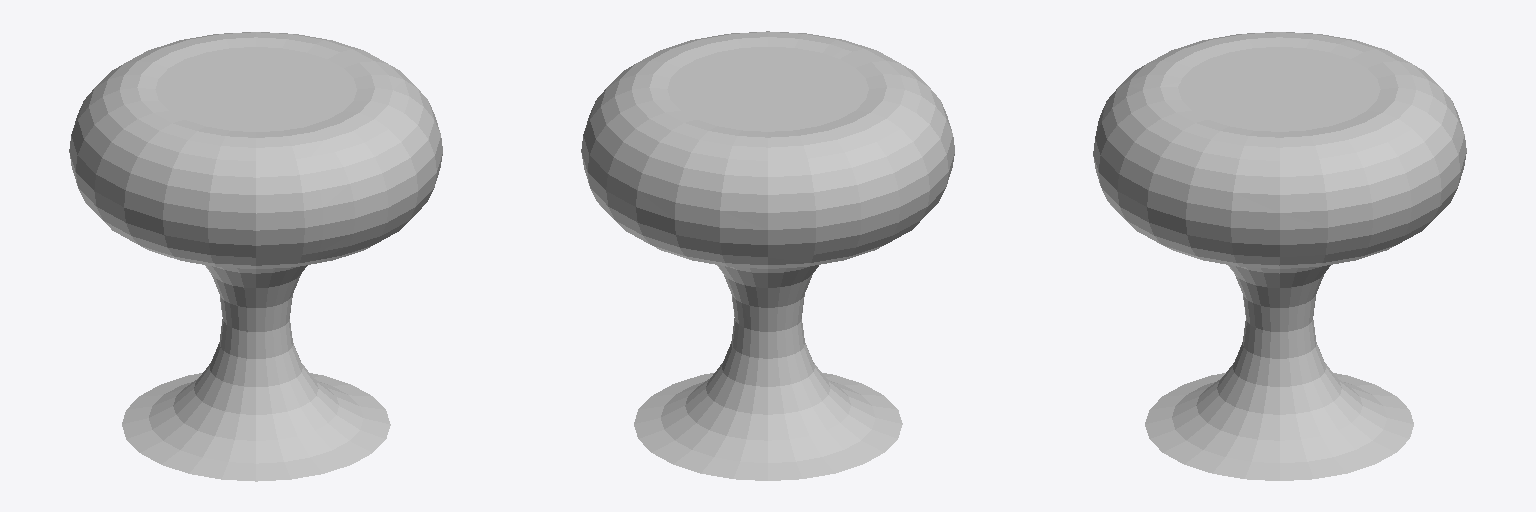
File: nuke.obj
3 renders of one model, left to right at view 1: azimuth 30°, elevation 25°; view 2: azimuth 150°, elevation 25°; view 3: azimuth 270°, elevation 25°, orthographic.
Visible parts, largest first — view 1: Mesh1 Mushroom_cloud___nuclear_blast1 Model; view 2: Mesh1 Mushroom_cloud___nuclear_blast1 Model; view 3: Mesh1 Mushroom_cloud___nuclear_blast1 Model.
Part boxes in pixels (left/top/right/bottom): Mesh1 Mushroom_cloud___nuclear_blast1 Model: left=69, top=32, right=442, bottom=481; Mesh1 Mushroom_cloud___nuclear_blast1 Model: left=581, top=31, right=954, bottom=480; Mesh1 Mushroom_cloud___nuclear_blast1 Model: left=1093, top=32, right=1466, bottom=480.
Size of the model in its own units: 5561 by 5531 by 5561.